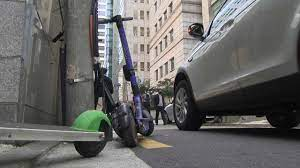kick_body: (1, 123, 79, 142)
kick_handler: (99, 14, 132, 24)
kick_neck: (117, 26, 141, 100)
kick_wheel: (70, 109, 112, 156)
